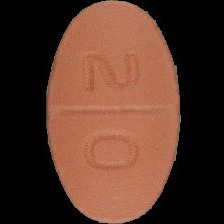58118-0023: (0, 0, 224, 224)
